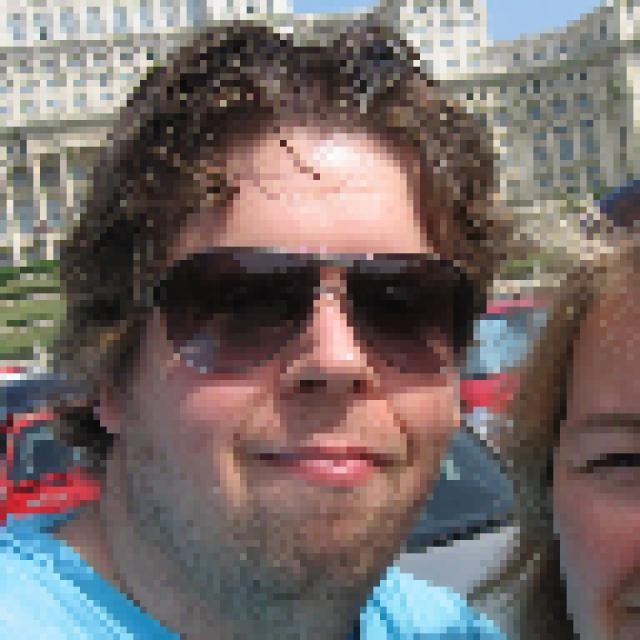happy: (80, 85, 479, 588)
